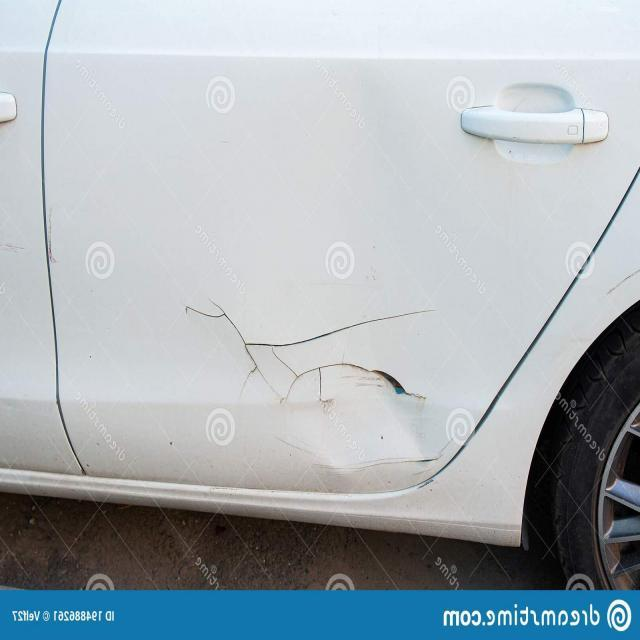dent: (151, 288, 488, 471)
